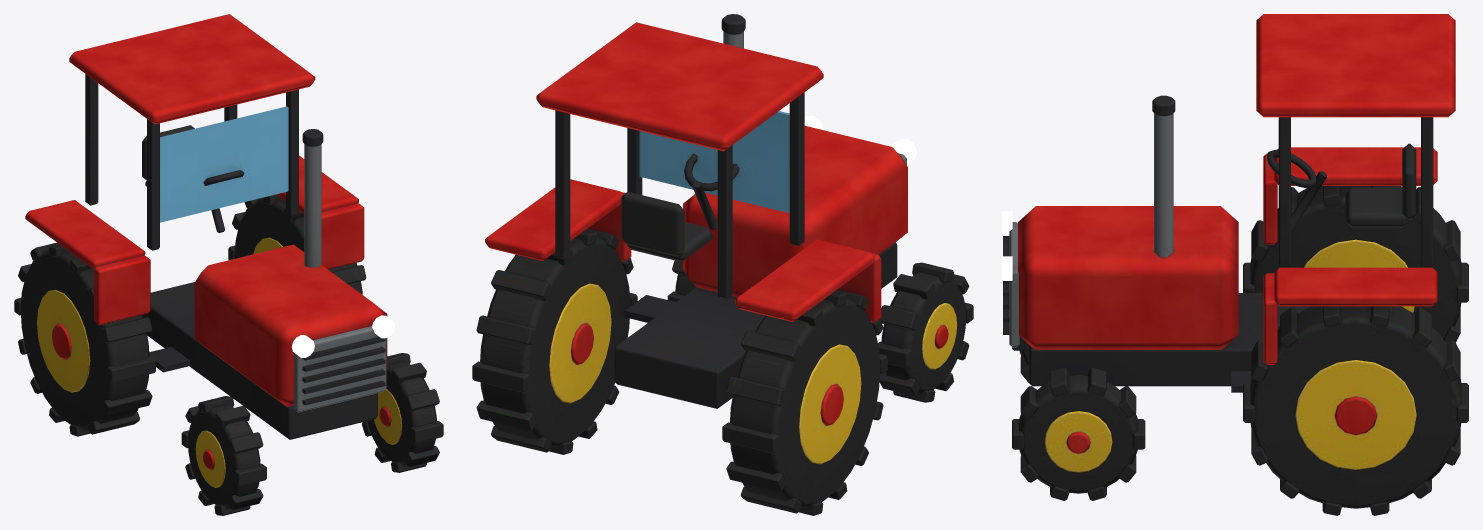
The model's file is tractor.glb.
3 renders of one model, left to right at view 1: azimuth 30°, elevation 25°; view 2: azimuth 150°, elevation 25°; view 3: azimuth 270°, elevation 25°, orthographic. The views are drawn at different scales.
Parts seen in each view (by area): view 1: tractor; view 2: tractor; view 3: tractor.
Boxes of the visible parts, x1,y1,x2,y2 form: tractor: (14,14,443,515); tractor: (472,14,973,515); tractor: (1002,14,1468,515).
Size of the model in its own units: 1 by 1.2 by 1.31.
1 material, 1 textured.
